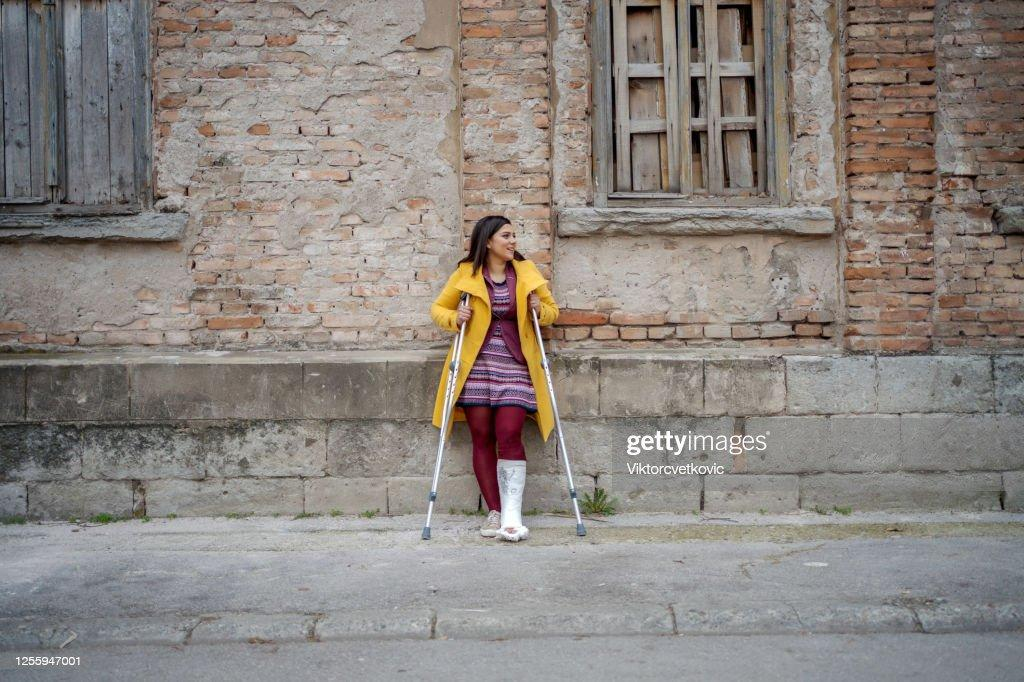crutches: (413, 210, 590, 543)
